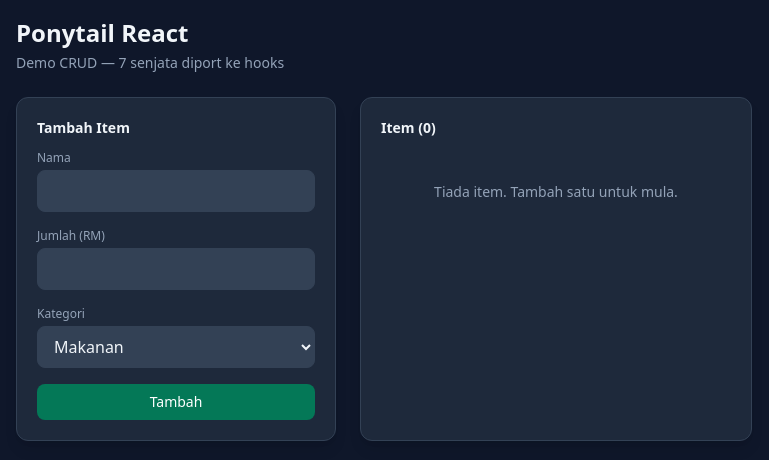
Test: App interaction (React port) › edits an existing item
This screenshot has width=769, height=460.
Expected: the heading "Ponytail React" is shown, [16, 16, 188, 49]
Type "Air" into the field named "Nama item".
click(176, 191); type("Air")  # box [37, 170, 315, 212]
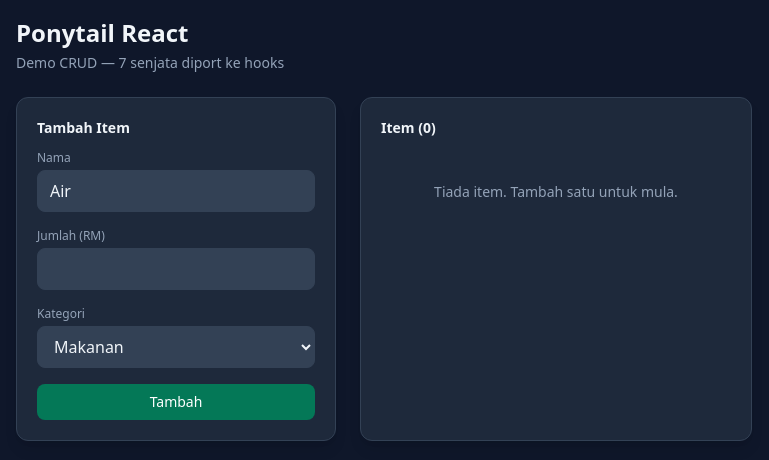
Type "2" into the number field named "Jumlah dalam Ringgit".
click(176, 269); type("2")  # box [37, 248, 315, 290]
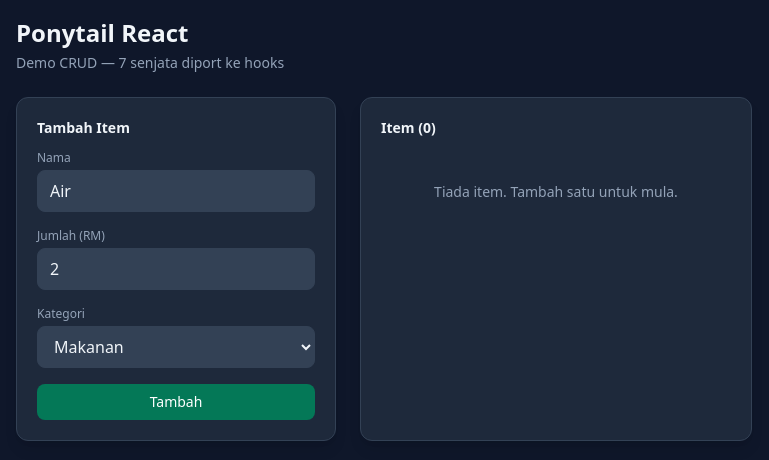
Click the button "Tambah".
click(176, 402)  # box [37, 384, 315, 420]
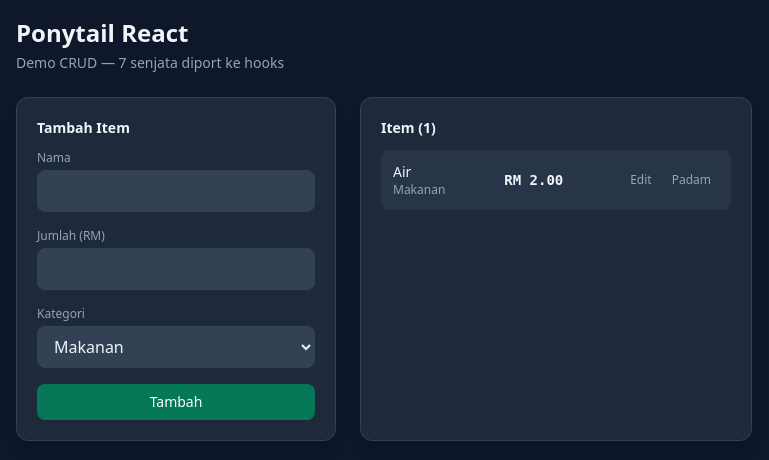
Now the text "Air" is shown, box [393, 162, 411, 181]
Click the button with aria-label "Edit Air".
click(641, 180)  # box [622, 168, 660, 192]
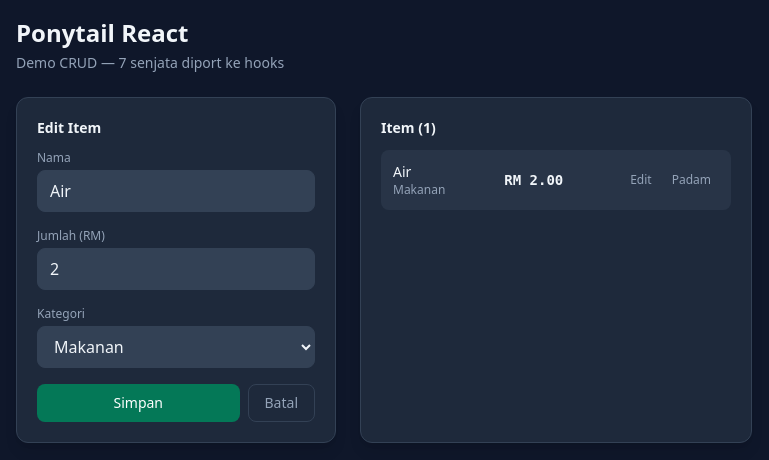
Now the button "Simpan" is shown, box [37, 384, 240, 422]
Replace the text in the field named "Nama item" with "Air Mineral" at (176, 191), box [37, 170, 315, 212]
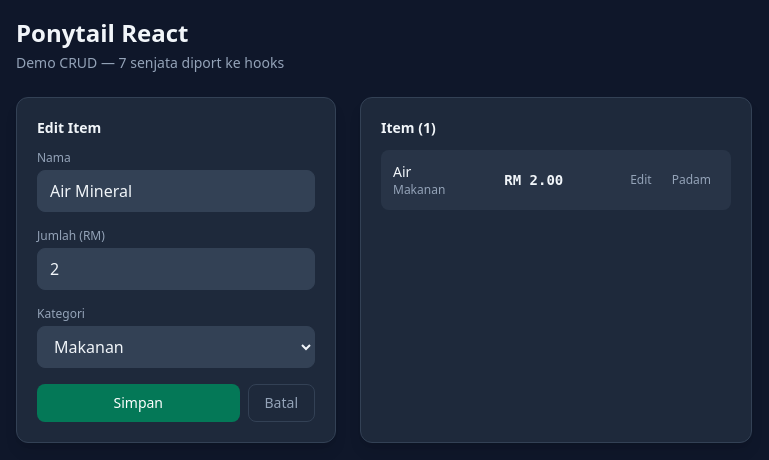
Click the button "Simpan".
click(138, 403)  # box [37, 384, 240, 422]
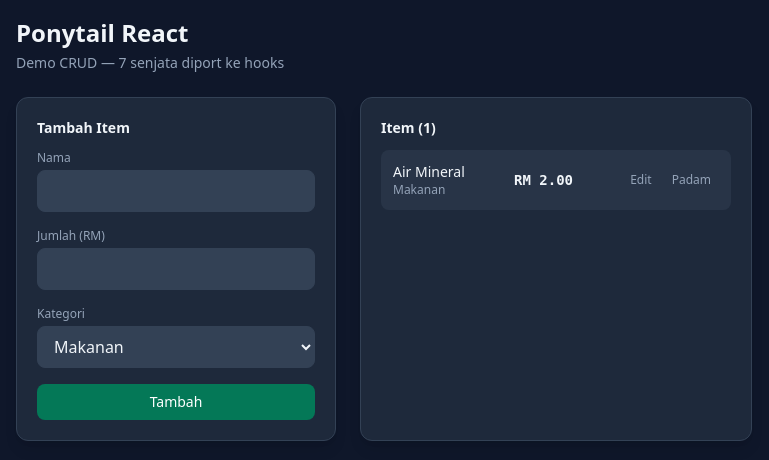
Now the text "Air Mineral" is shown, box [393, 162, 465, 182]
